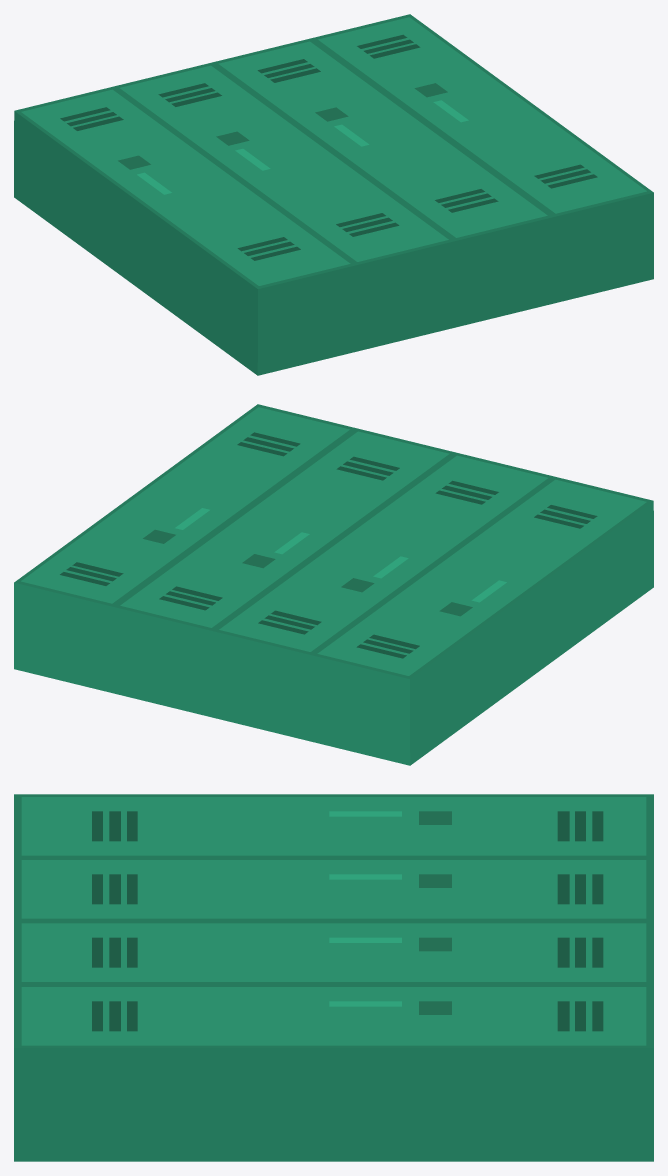
Rendered from Lockers2.glb.
3 renders of one model, top to bottom at view 1: azimuth 30°, elevation 25°; view 2: azimuth 150°, elevation 25°; view 3: azimuth 270°, elevation 25°, orthographic. The views are drawn at different scales.
Visible parts, largest first — view 1: SO_Lockers_02; view 2: SO_Lockers_02; view 3: SO_Lockers_02.
Part boxes in pixels (box(x1,y1,x2,y2)): SO_Lockers_02: box(14, 14, 653, 375); SO_Lockers_02: box(14, 404, 653, 765); SO_Lockers_02: box(14, 794, 653, 1161).
Size of the model in its own units: 3.22 by 0.672 by 3.43.
Materials: 1 (1 with a texture image).
